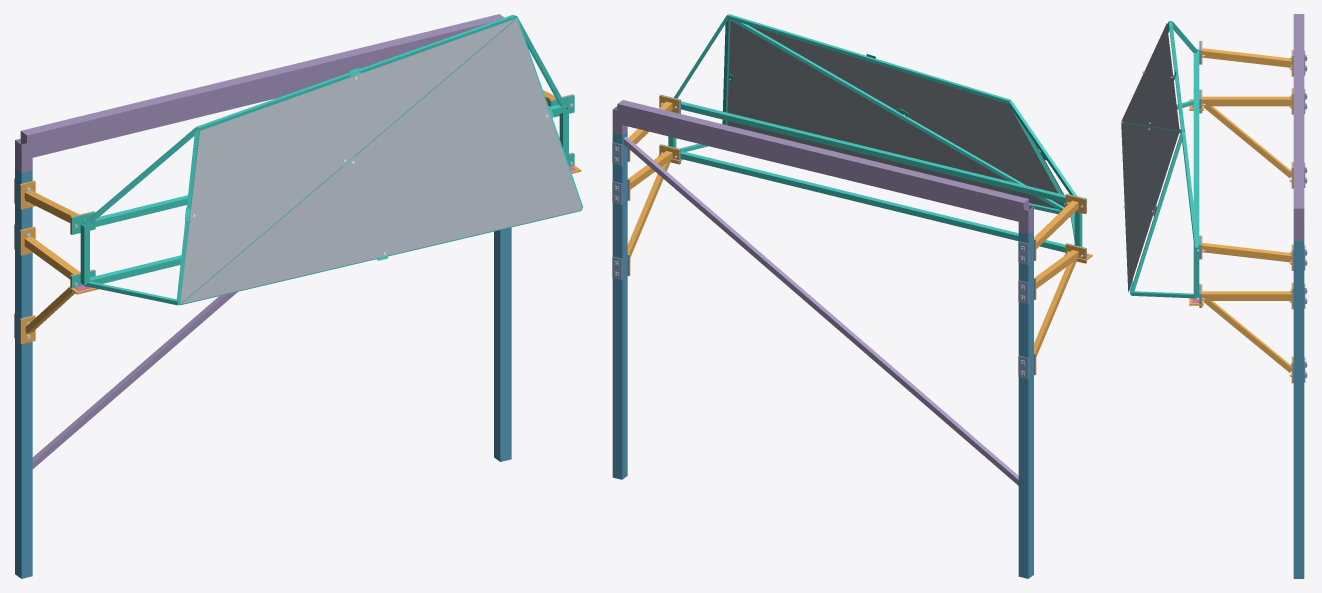
Rendered from baaabs-panel-mounting-v2.glb.
3 views of the same model, side by side, from view 1: azimuth 30°, elevation 25°; view 2: azimuth 150°, elevation 25°; view 3: azimuth 270°, elevation 25° (orthographic). The views are drawn at different scales.
Visible parts, largest first — view 1: B-D-033 existing skin, B-D-034 existing skin, Existing roof longitudinal, C driver upright, D driver upright, Existing C-D side brace, Facet backing edge (1, 3), Cassette top rail, Facet corner pickup 3, Cassette bottom rail, Facet backing edge (0, 3), C-lower outrigger; view 2: B-D-033 existing skin, B-D-034 existing skin, Existing roof longitudinal, C driver upright, D driver upright, Existing C-D side brace, Cassette top rail, Cassette bottom rail, Facet backing edge (0, 1), Facet backing edge (1, 3), C lower outrigger brace, D lower outrigger brace (+2 smaller); view 3: B-D-033 existing skin, D driver upright, B-D-034 existing skin, Existing roof longitudinal, Cassette top rail, C-lower outrigger, D-upper outrigger, C-upper outrigger, D-lower outrigger, C lower outrigger brace, D lower outrigger brace, Facet backing edge (1, 2) (+5 smaller).
Boxes of the visible parts, <box> form: B-D-033 existing skin: <box>182,19,582,303</box>; B-D-034 existing skin: <box>180,19,514,303</box>; Existing roof longitudinal: <box>20,14,503,157</box>; C driver upright: <box>15,168,32,578</box>; D driver upright: <box>494,227,511,461</box>; Existing C-D side brace: <box>32,292,237,468</box>; Facet backing edge (1, 3): <box>196,14,515,131</box>; Cassette top rail: <box>83,104,565,228</box>; Facet corner pickup 3: <box>84,127,197,225</box>; Cassette bottom rail: <box>85,255,181,287</box>; Facet backing edge (0, 3): <box>176,129,199,302</box>; C-lower outrigger: <box>24,237,80,279</box>; B-D-033 existing skin: <box>727,20,1056,208</box>; B-D-034 existing skin: <box>749,25,1065,207</box>; Existing roof longitudinal: <box>617,100,1028,221</box>; C driver upright: <box>1018,230,1033,578</box>; D driver upright: <box>612,131,627,479</box>; Existing C-D side brace: <box>623,136,1018,485</box>; Cassette top rail: <box>681,101,1065,202</box>; Cassette bottom rail: <box>681,151,1065,252</box>; Facet backing edge (0, 1): <box>728,19,1064,210</box>; Facet backing edge (1, 3): <box>727,14,1010,103</box>; C lower outrigger brace: <box>1034,260,1076,356</box>; D lower outrigger brace: <box>627,161,670,257</box>; B-D-033 existing skin: <box>1121,122,1179,292</box>; D driver upright: <box>1293,240,1304,578</box>; B-D-034 existing skin: <box>1121,23,1179,130</box>; Existing roof longitudinal: <box>1293,14,1304,217</box>; Cassette top rail: <box>1193,50,1199,247</box>; C-lower outrigger: <box>1202,96,1291,106</box>; D-upper outrigger: <box>1202,243,1291,262</box>; C-upper outrigger: <box>1202,48,1291,67</box>; D-lower outrigger: <box>1202,291,1291,300</box>; C lower outrigger brace: <box>1204,106,1291,177</box>; D lower outrigger brace: <box>1204,301,1291,372</box>; Facet backing edge (1, 2): <box>1130,131,1183,293</box>.
Bounding box in the file's own units: 3.41 × 3.28 × 1.31.
